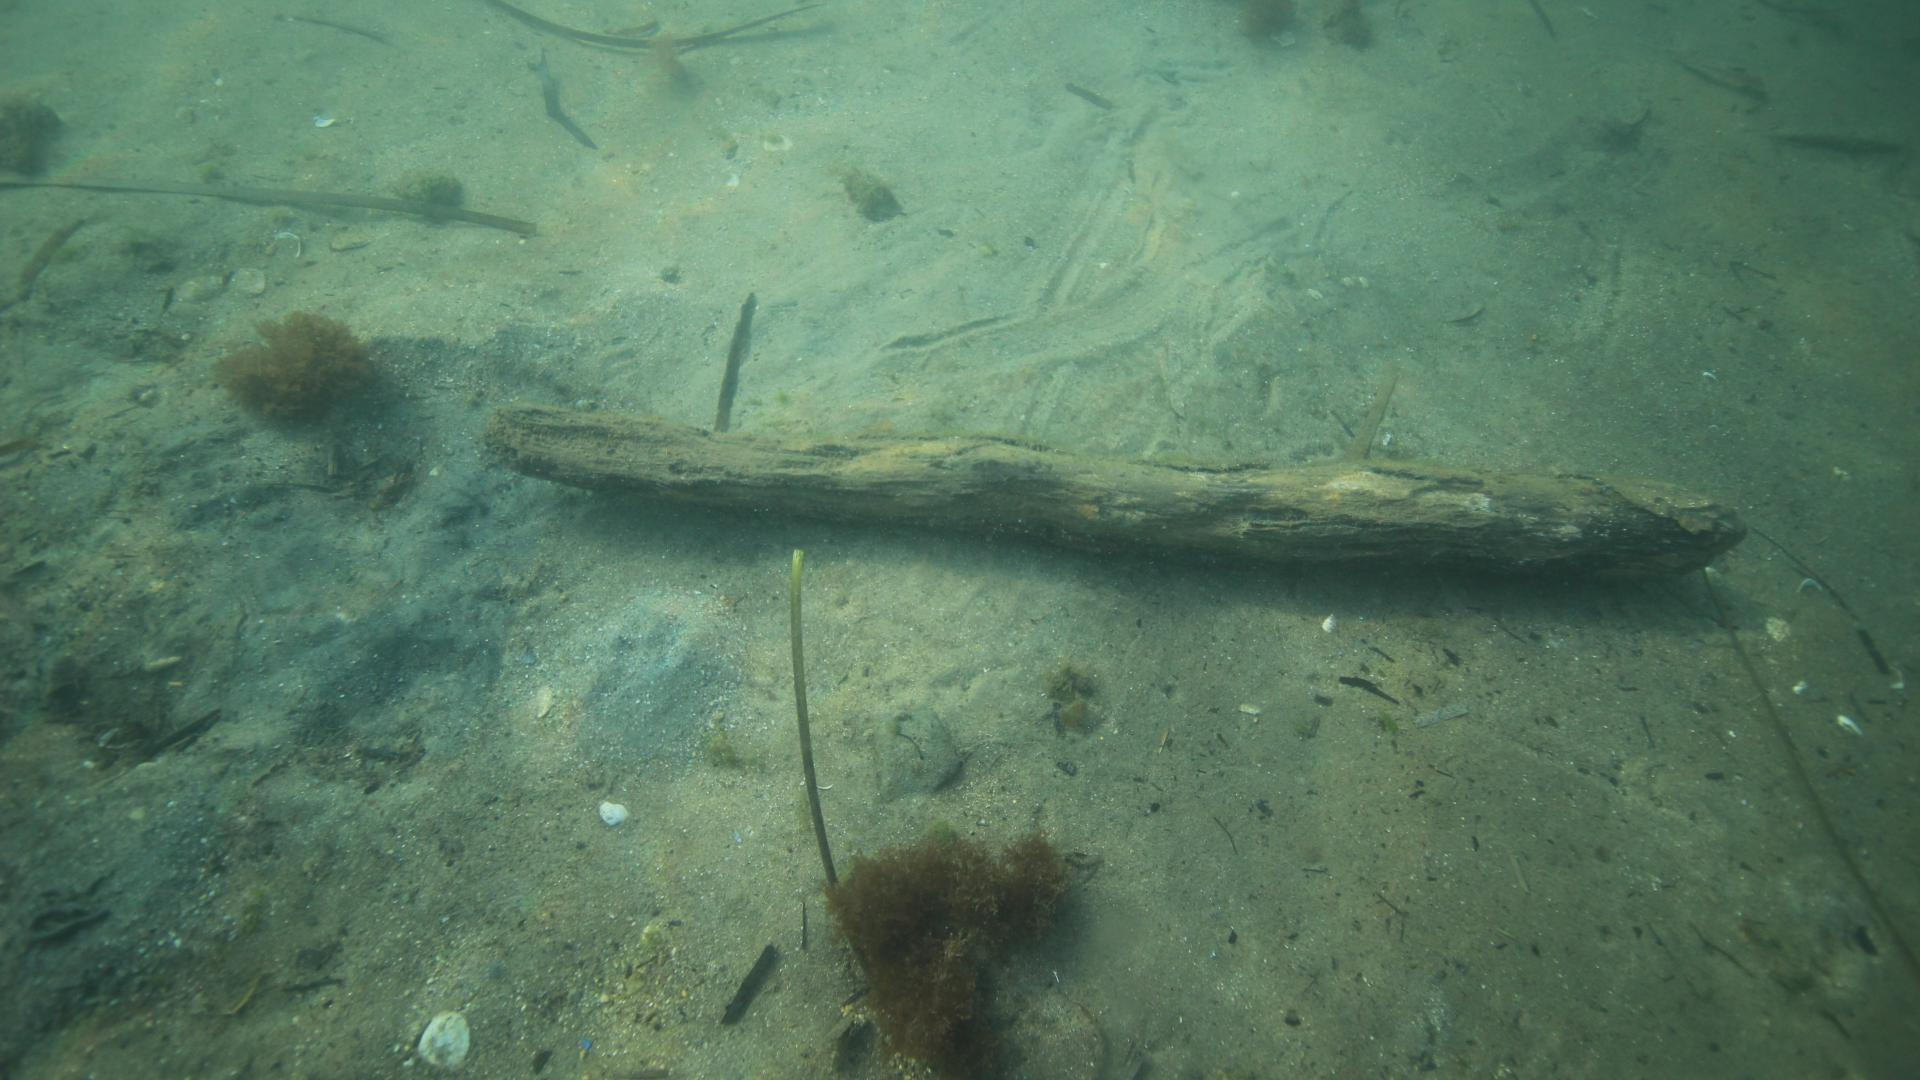wood: (473, 386, 1746, 595)
